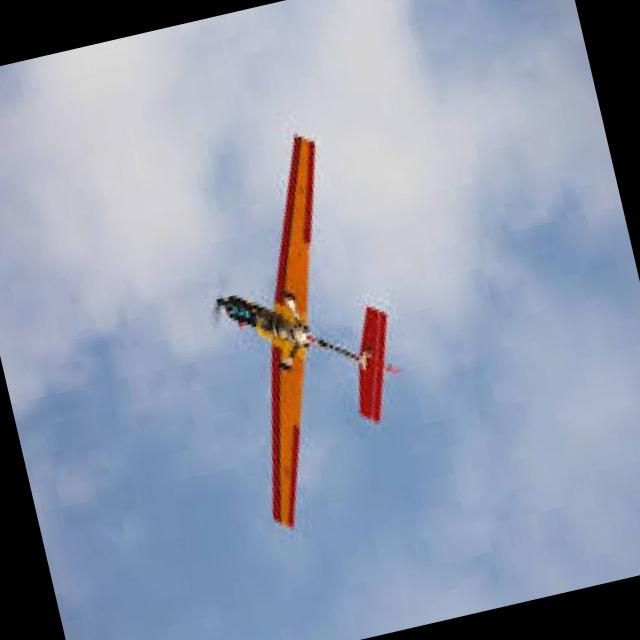UAV: (136, 119, 461, 552)
